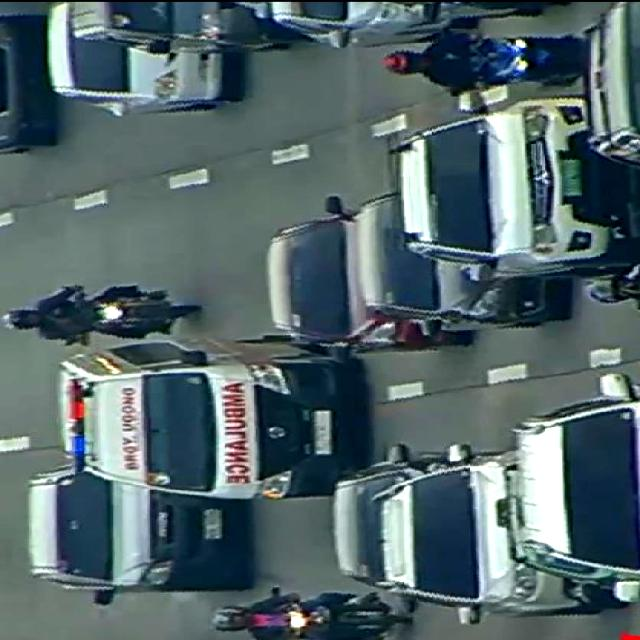emergency: (64, 336, 344, 498)
